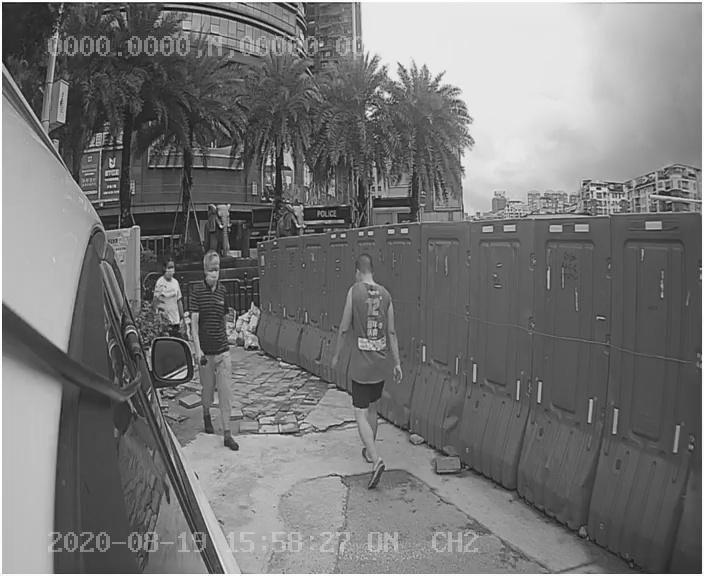person: (310, 244, 416, 502)
